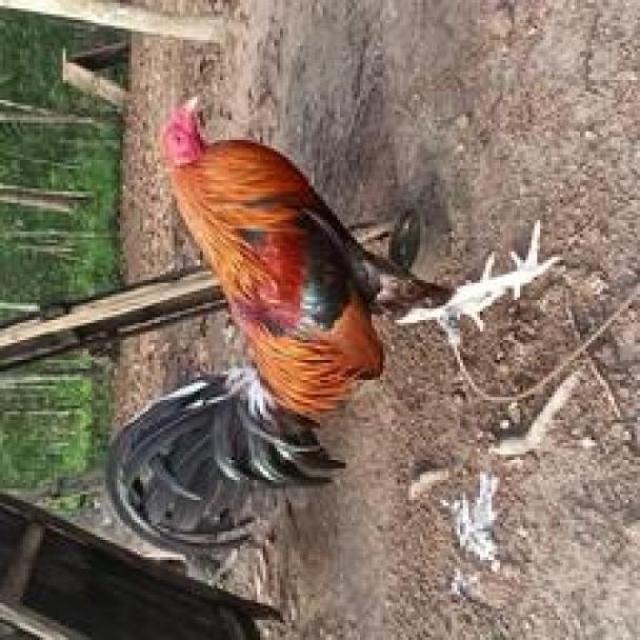Chicken: (138, 66, 560, 571)
